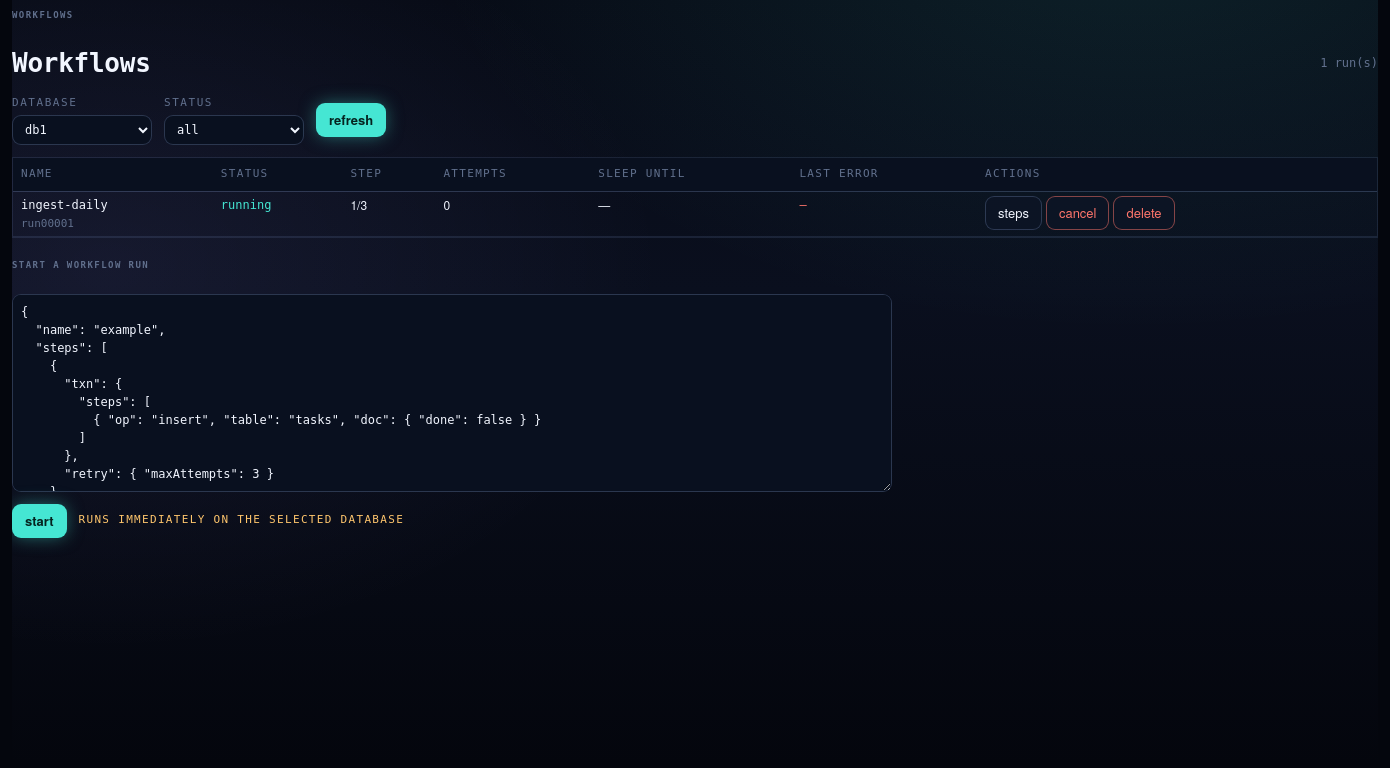
Test case: WorkflowsPage › expands a run into its per-step timeline
Click the button "steps".
click(1014, 212)  # box 985,196 -> 1042,230
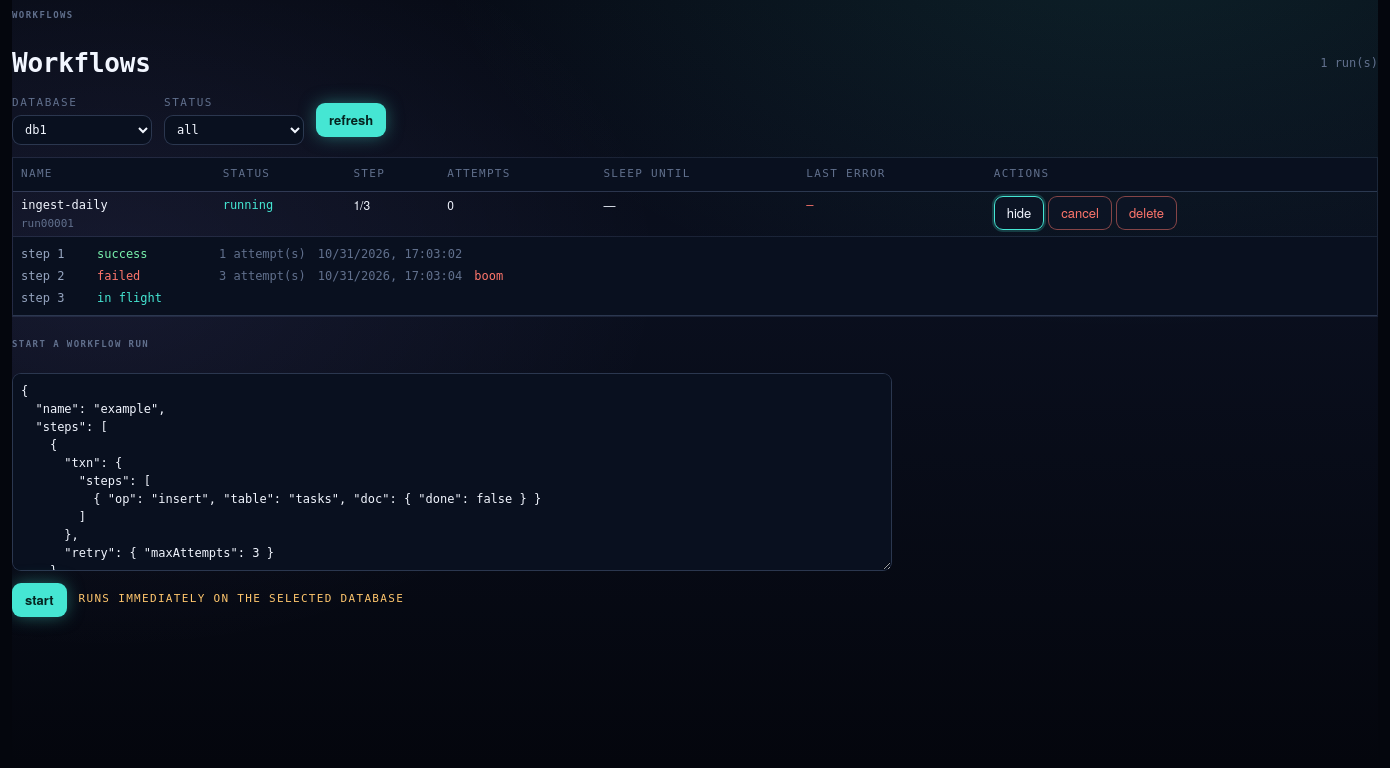
Check: the text "step 1" is shown, box 21,247 -> 64,261
Check: the text "step 2" is shown, box 21,269 -> 64,283
Check: the text "boom" is shown, box 474,267 -> 503,285
